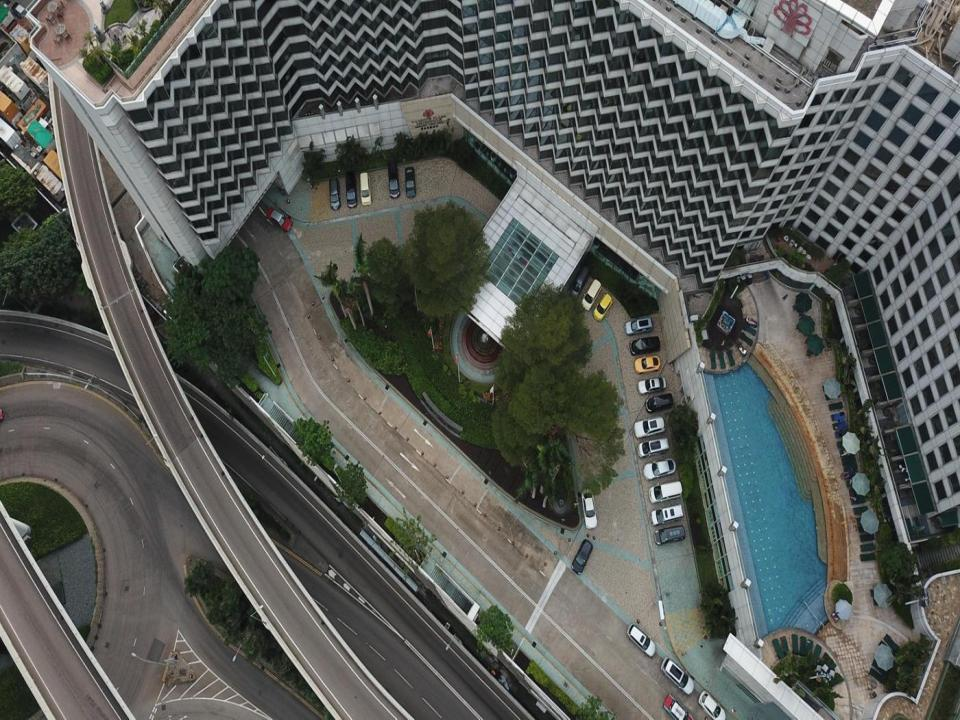car: (698, 690, 726, 719), (266, 206, 294, 233), (505, 240, 530, 270), (642, 458, 676, 480), (663, 695, 694, 719), (634, 416, 665, 437), (582, 488, 597, 529), (630, 336, 660, 356), (637, 377, 666, 395), (634, 355, 660, 374), (404, 167, 416, 198)
van: (661, 657, 694, 694), (626, 623, 656, 657), (649, 480, 683, 504), (571, 539, 593, 574), (568, 265, 590, 298), (650, 505, 682, 526), (637, 438, 669, 458), (654, 524, 685, 544), (645, 393, 673, 412), (625, 317, 652, 335), (387, 161, 400, 198), (360, 172, 372, 206), (328, 177, 340, 210), (346, 171, 357, 207)
